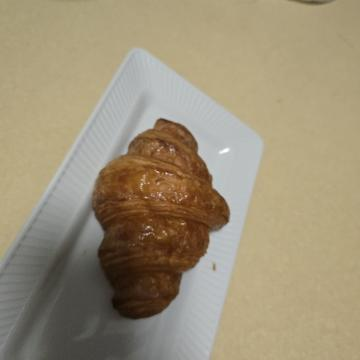croissant: (110, 124, 333, 278)
